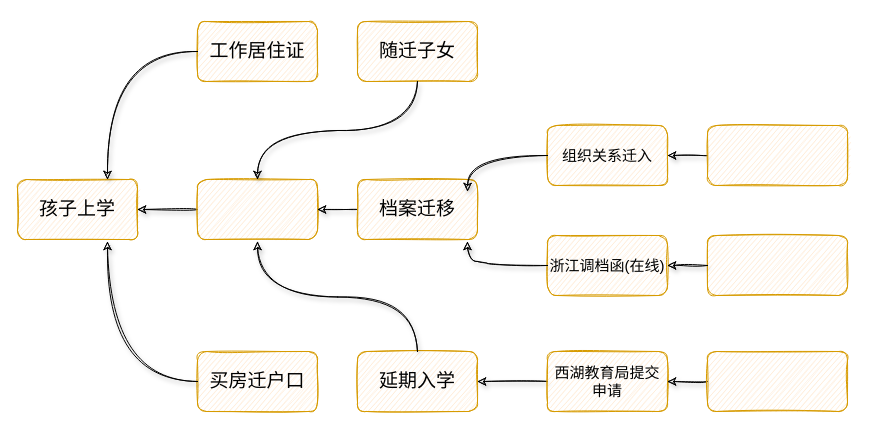
The diagram is 871 pixels wide and 435 high, and some of its shapes have lost their labels. Each missing label, with the centre of its shape:
学区调剂: point 777,381
河南档案迁移(在线): point 777,265
组织关系迁移 (省外线下): point 777,155
集体户口: point 257,209
